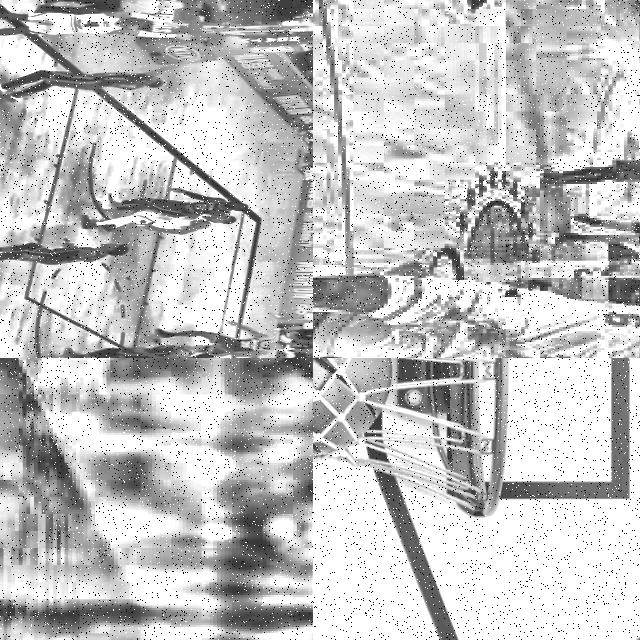Basketball: (313, 358, 390, 457), (220, 35, 247, 48)
